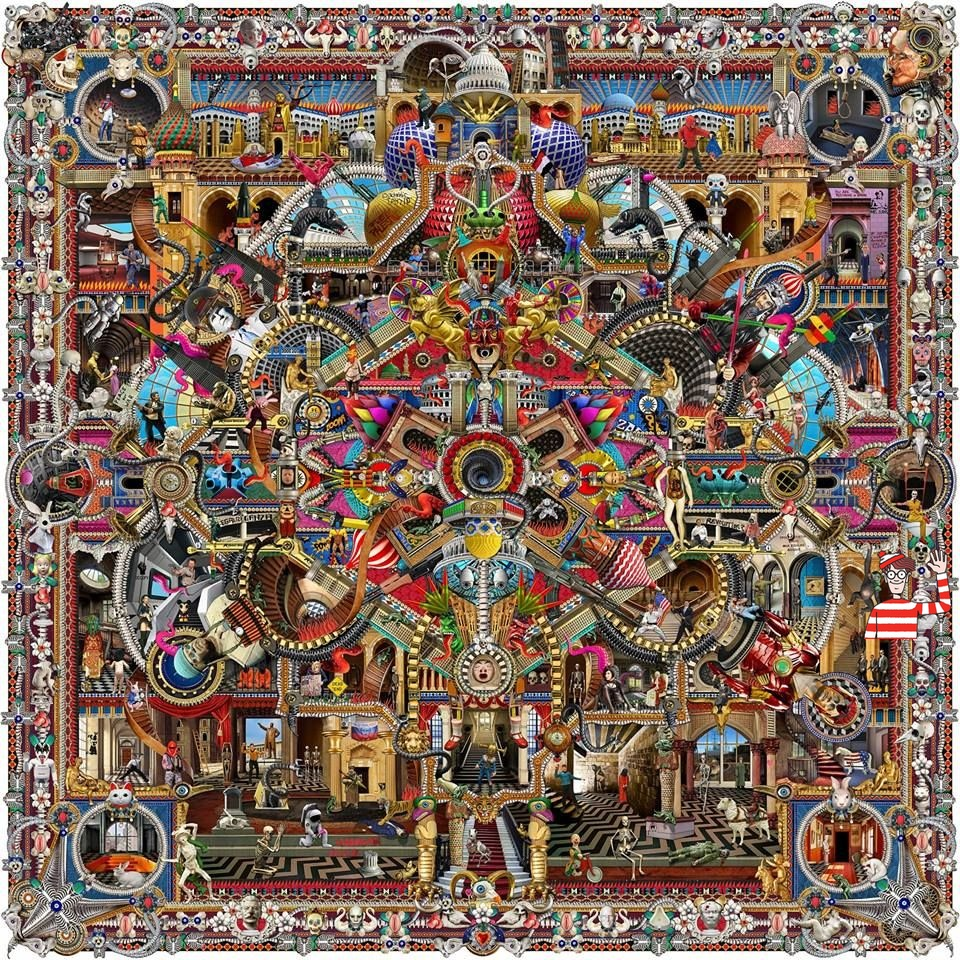waldo: (863, 549, 952, 639)
